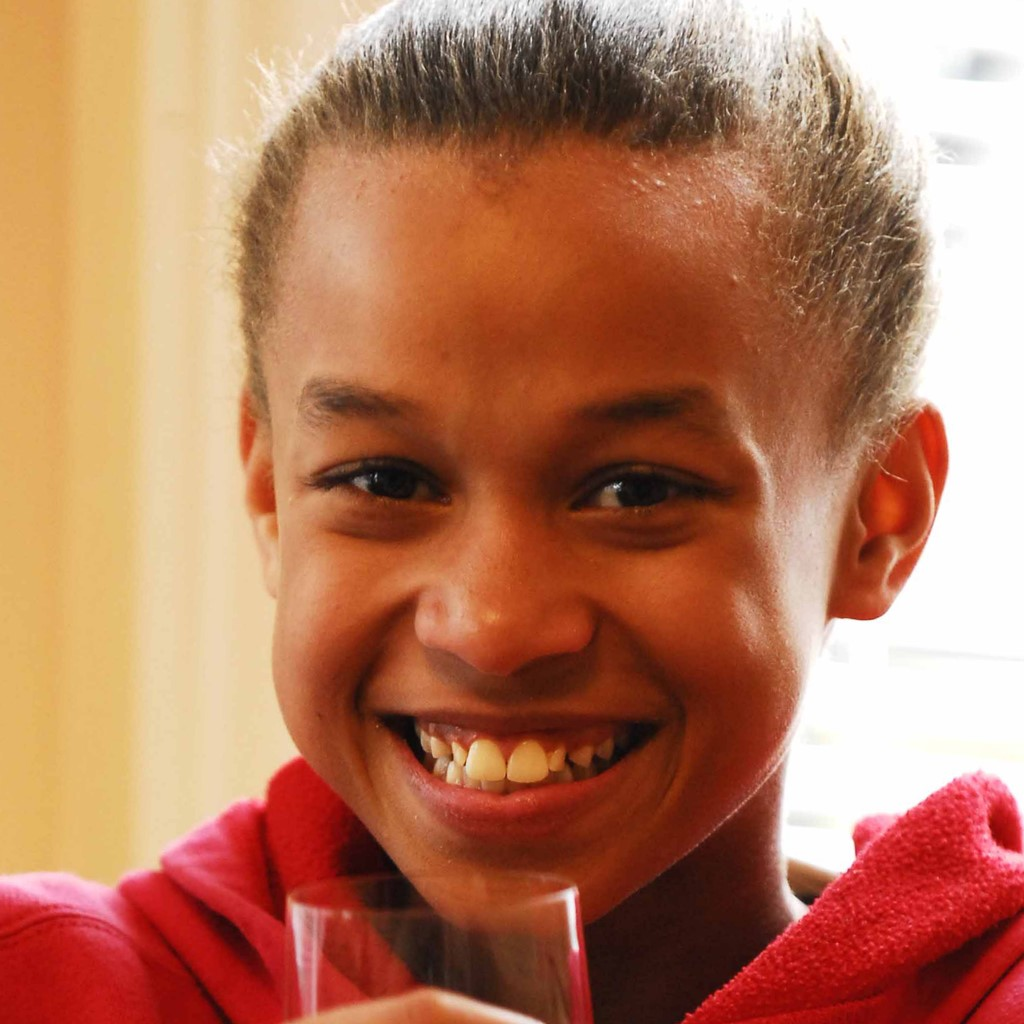sin_mascara: (243, 119, 860, 905)
